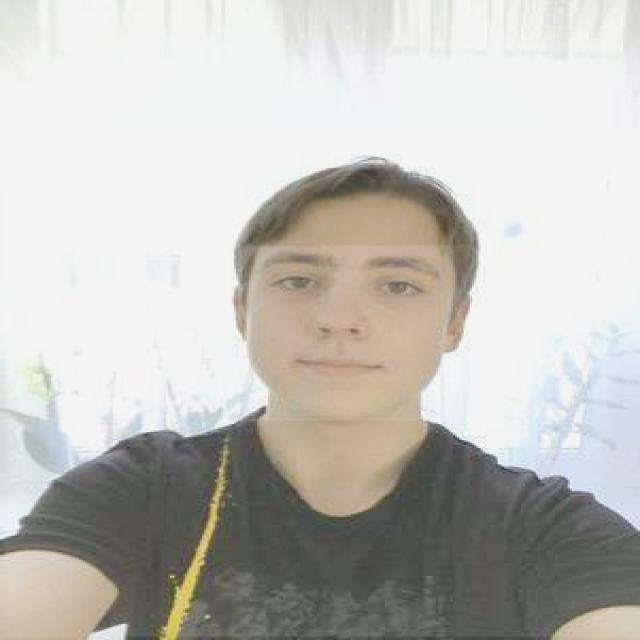face_nomask: (244, 246, 453, 421)
head_nohelmet: (248, 170, 481, 244)
person: (2, 130, 640, 638)
